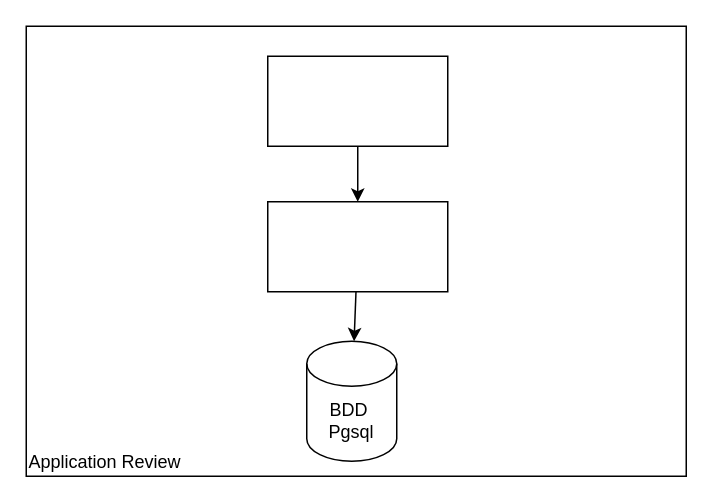
This 713x503 diagram has some shape labels left out. Here are the shapes that lost their labels. From the top down, the centre of each, then its label:
At point (357, 100): "Frontend".
At point (357, 246): "Backend".
